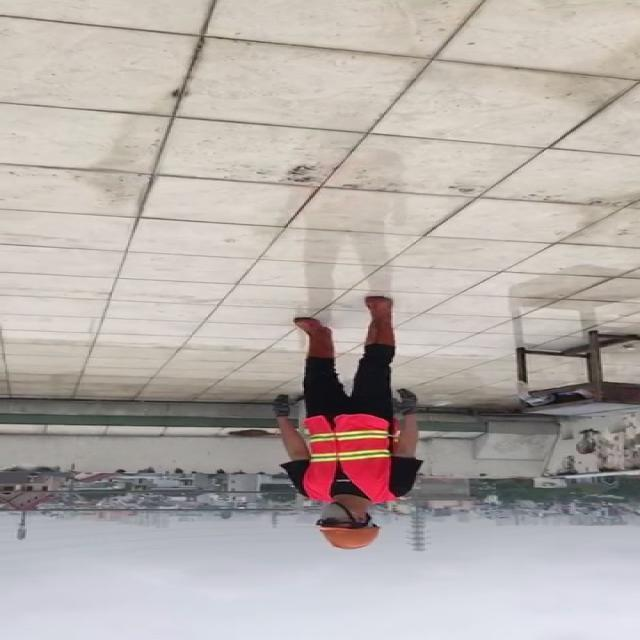gloves: (390, 386, 419, 417), (270, 390, 292, 426)
